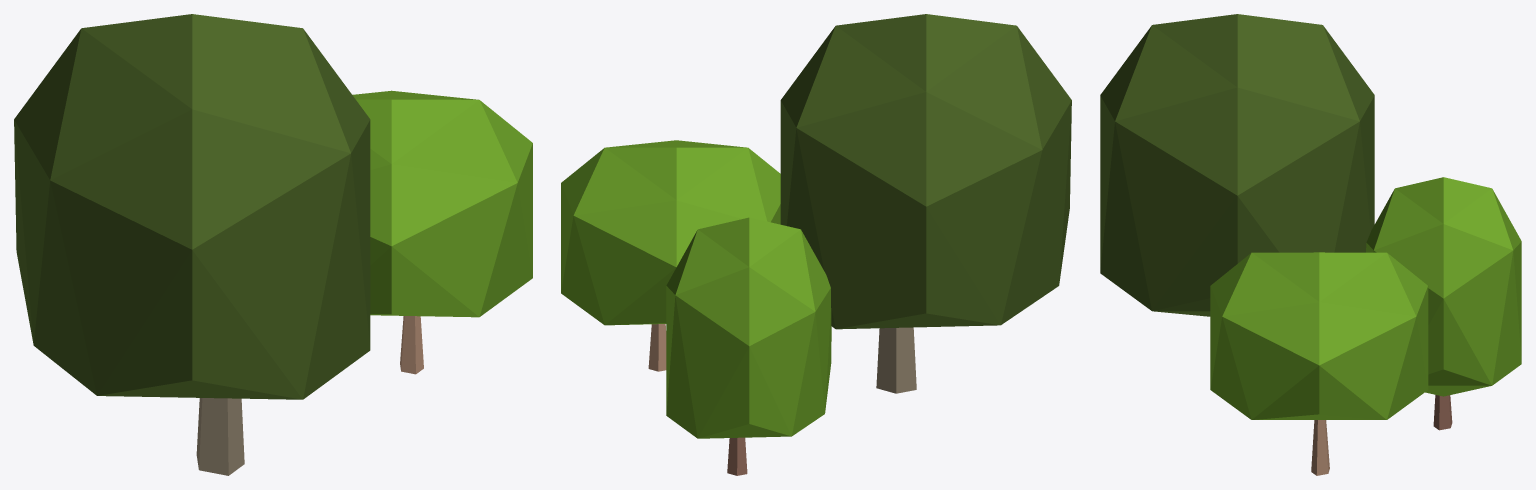
Rendered from SM_Bush_01.fbx.
3 views of the same model, side by side, from view 1: azimuth 30°, elevation 25°; view 2: azimuth 150°, elevation 25°; view 3: azimuth 270°, elevation 25° (orthographic). The views are drawn at different scales.
Parts seen in each view (by area): view 1: SM_Bush_01; view 2: SM_Bush_01; view 3: SM_Bush_01.
Boxes of the visible parts, x1,y1,x2,y2 form: SM_Bush_01: (14,14,532,475); SM_Bush_01: (561,14,1071,475); SM_Bush_01: (1100,14,1521,475).
Bounding box in the file's own units: 98.73 × 87.3 × 85.98.
Materials: 3 (3 with a texture image).
